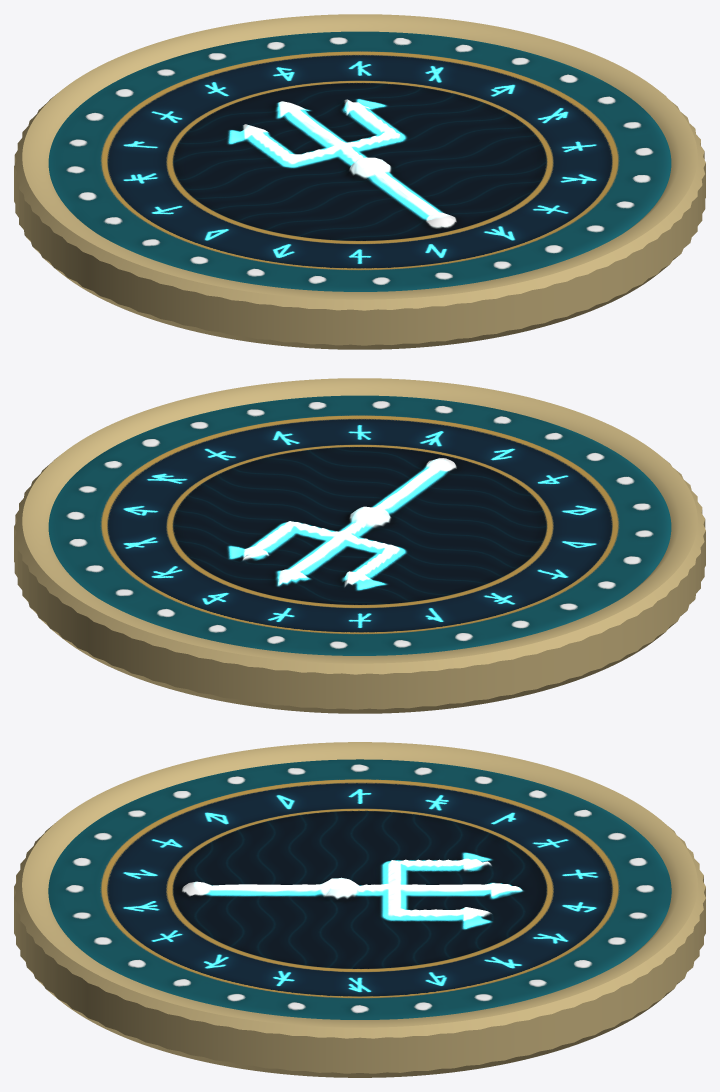
The model's file is coin_abyssal.fbx.
The picture shows the model from 3 angles, top to bottom: view 1: azimuth 30°, elevation 25°; view 2: azimuth 150°, elevation 25°; view 3: azimuth 270°, elevation 25°; orthographic projection.
Visible parts, largest first — view 1: coin_abyssal; view 2: coin_abyssal; view 3: coin_abyssal.
Part boxes in pixels (box(x1,y1,x2,y2)): coin_abyssal: box(14, 14, 705, 349); coin_abyssal: box(14, 378, 705, 713); coin_abyssal: box(14, 742, 705, 1077).
Bounding box in the file's own units: 0.9992 × 0.084 × 0.9992.
